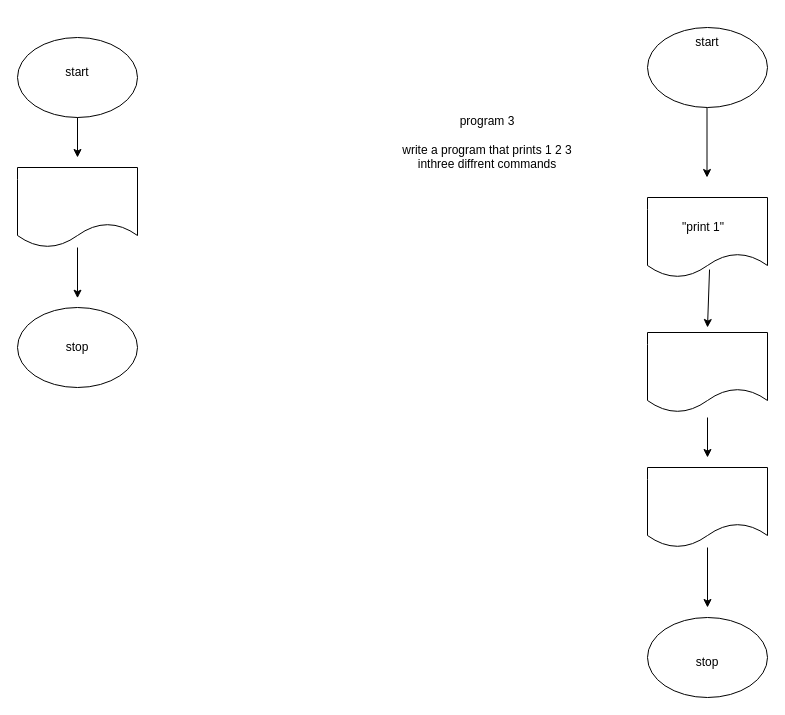
Some shapes in this 785 by 715 pixel diagram are drawn without their labels. Here are the shapes that lost their labels. From the top down, the centre of each, then its label:
(x=77, y=207): hi benja
(x=707, y=372): "print 2"
(x=707, y=507): "print 3"
